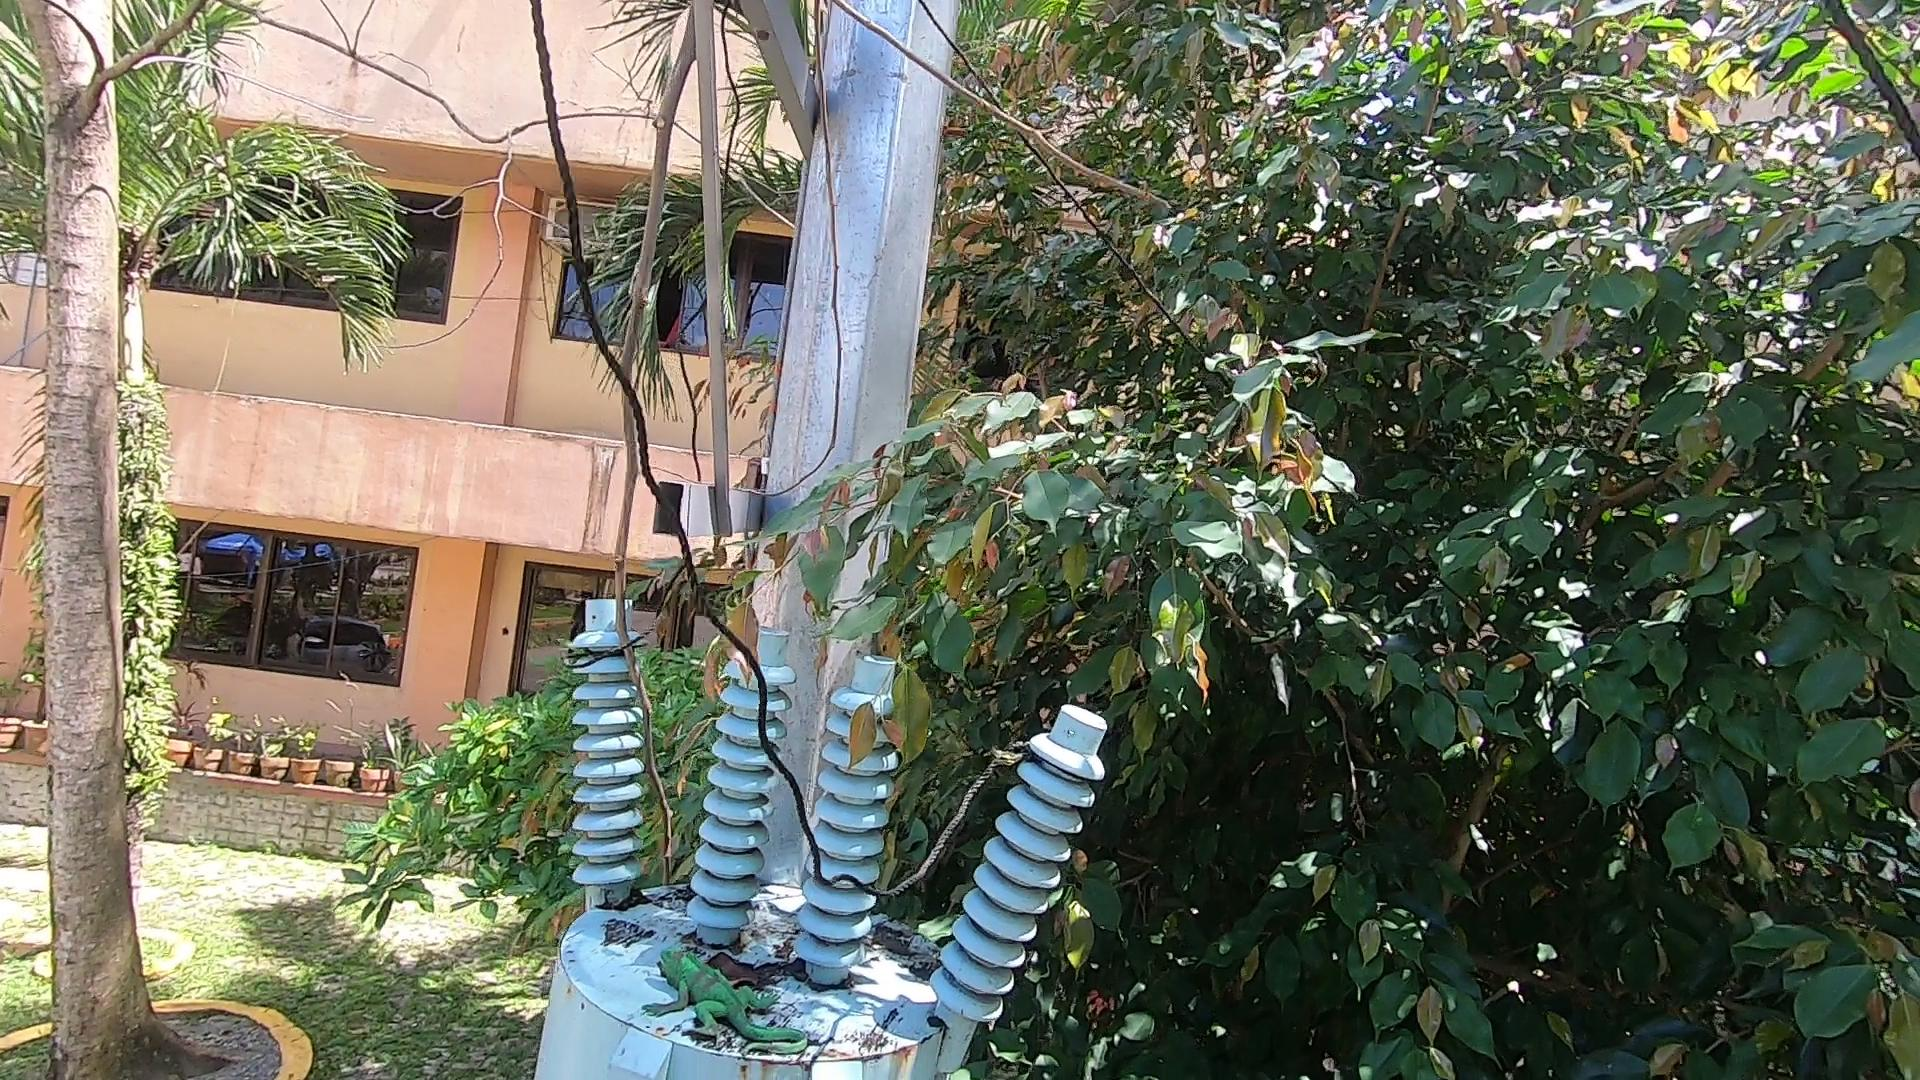branch with leaves: (667, 527, 1007, 778)
leaf: (877, 919, 936, 977), (724, 953, 819, 980), (607, 884, 674, 914)
tree branch: (554, 7, 1176, 887)
